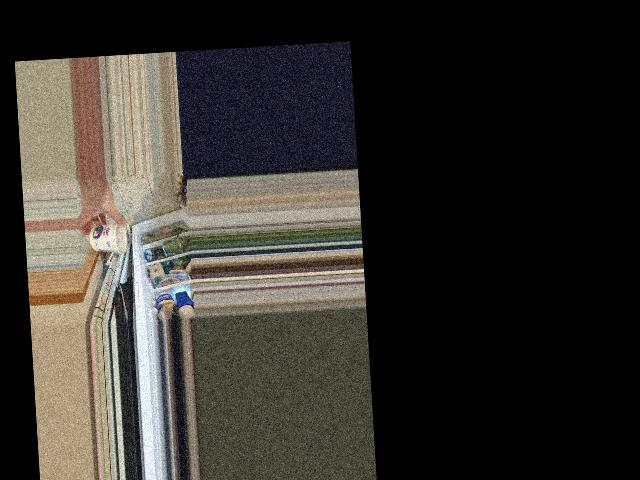cotage: (91, 220, 126, 252)
